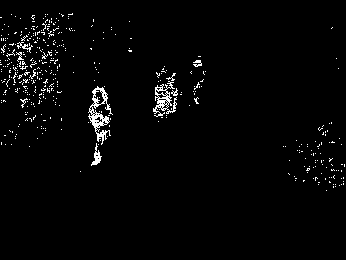person: (86, 86, 112, 168)
